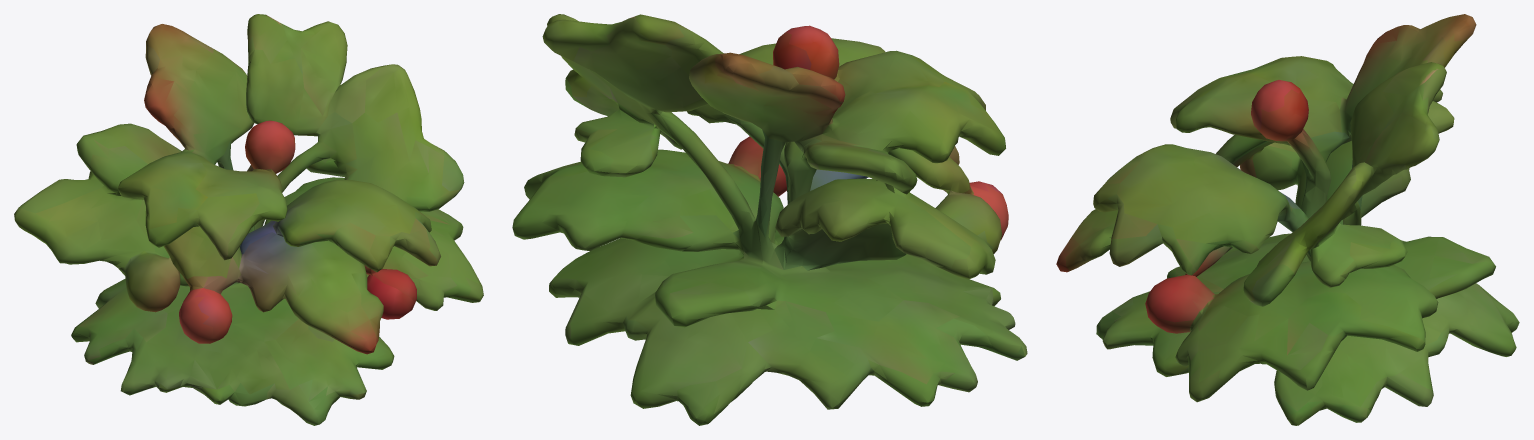
Rendered from arbusto_bayas.glb.
3 views of the same model, side by side, from view 1: azimuth 30°, elevation 25°; view 2: azimuth 150°, elevation 25°; view 3: azimuth 270°, elevation 25° (orthographic). The views are drawn at different scales.
Parts seen in each view (by area): view 1: arbusto_bayas_malla; view 2: arbusto_bayas_malla; view 3: arbusto_bayas_malla.
Part boxes in pixels (box(x1,y1,x2,y2)): arbusto_bayas_malla: box(14, 14, 483, 425); arbusto_bayas_malla: box(512, 14, 1027, 425); arbusto_bayas_malla: box(1056, 14, 1519, 425).
Size of the model in its own units: 0.1106 by 0.0752 by 0.0974.
Materials: 1 (1 with a texture image).
